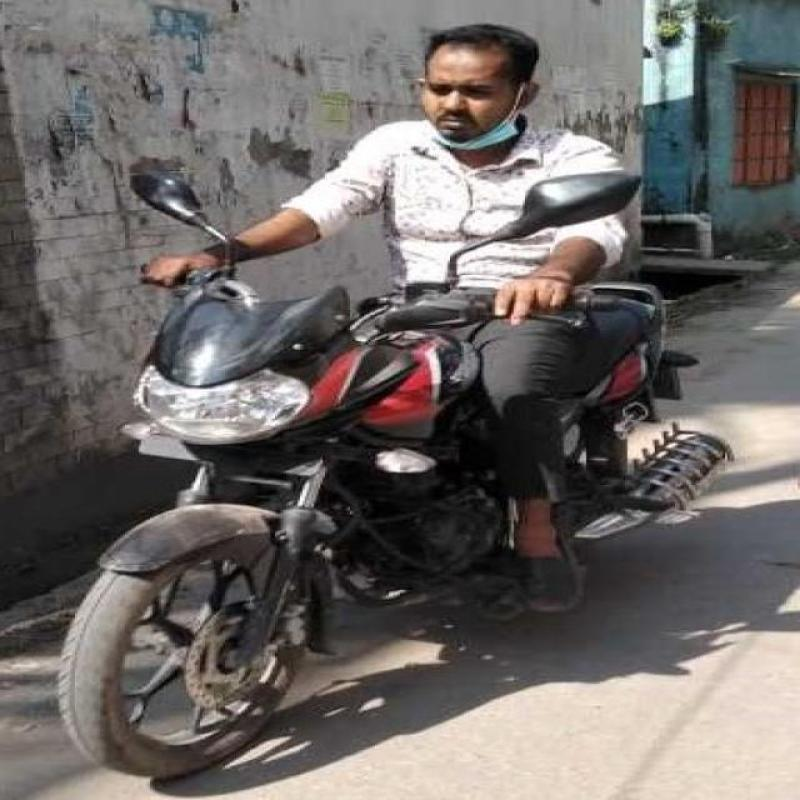nohelmet: (394, 10, 546, 151)
